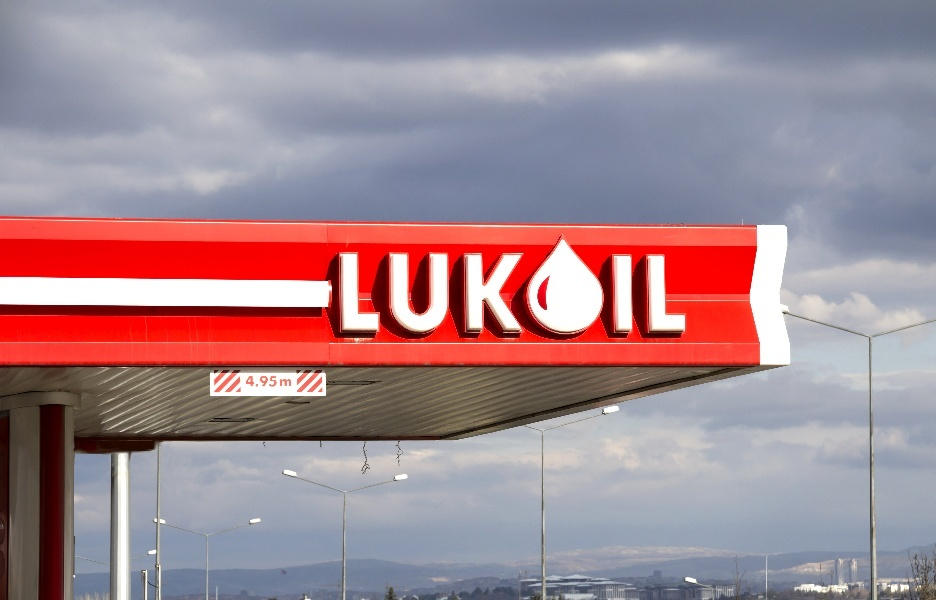text: (337, 232, 352, 340), (353, 232, 368, 340), (369, 232, 384, 340), (385, 232, 400, 340), (401, 232, 416, 340), (417, 232, 432, 340), (433, 232, 448, 340), (449, 232, 464, 340), (465, 232, 480, 340), (481, 232, 496, 340), (497, 232, 512, 340), (513, 232, 528, 340), (529, 232, 544, 340), (545, 232, 560, 340), (561, 232, 576, 340), (577, 232, 592, 340), (593, 232, 608, 340), (609, 232, 624, 340), (625, 232, 640, 340), (641, 232, 656, 340), (657, 232, 672, 340), (673, 232, 688, 340), (333, 232, 336, 340), (689, 232, 691, 340), (257, 375, 272, 388), (273, 375, 288, 388), (245, 375, 256, 388), (289, 375, 292, 388)
